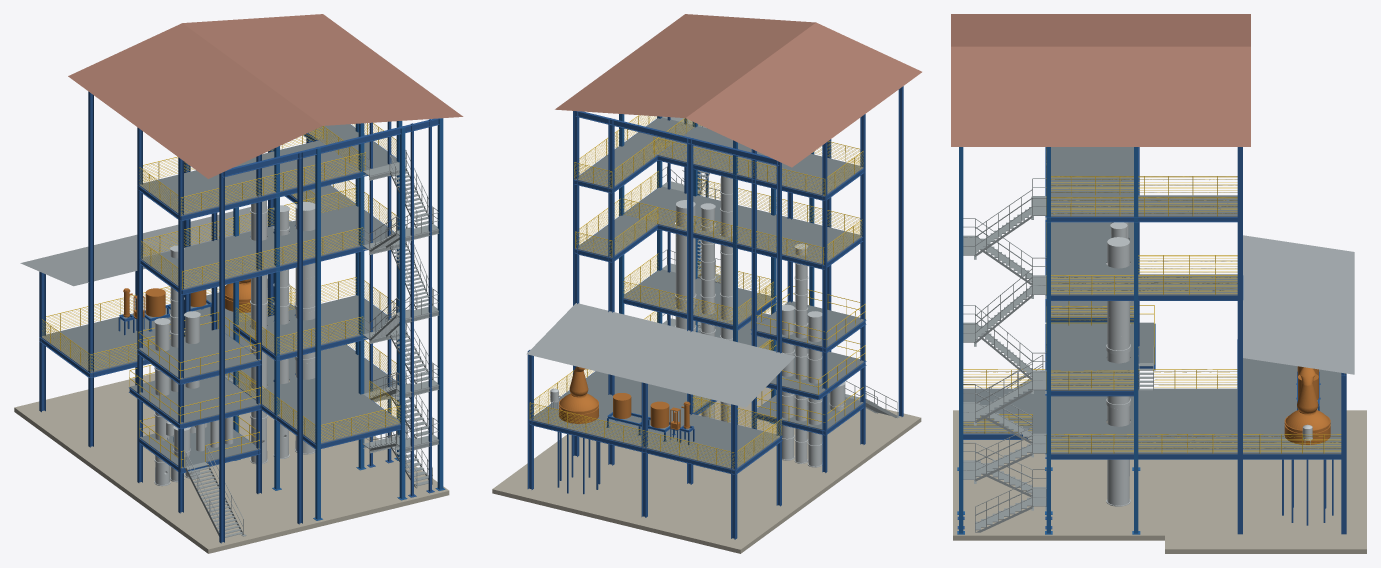
Rendered from torre-dusa.glb.
3 renders of one model, left to right at view 1: azimuth 30°, elevation 25°; view 2: azimuth 150°, elevation 25°; view 3: azimuth 270°, elevation 25°, orthographic. The views are drawn at different scales.
Parts seen in each view (by area): view 1: Estructura · rejilla, Estructura · acero, Estructura · concreto, Cubierta 1, Estructura · baranda, Cubierta 2, Estructura · escalera, Estructura · techo, Pilar sobre sector existente 12712-21915, Pilar sobre sector existente 15392-21915, Pilar sobre sector existente 6767-21915, Columna Rectificadora Bach zona central (+11 smaller); view 2: Estructura · rejilla, Estructura · acero, Estructura · concreto, Estructura · baranda, Cubierta 1, Estructura · techo, Cubierta 2, Columna Rectificadora HO, Columna Rectificadora Bach zona central, Columna Aldehídos, Columna Bach zona central, Columna Vinaza zona central (+6 smaller); view 3: Estructura · rejilla, Estructura · concreto, Cubierta 2, Estructura · baranda, Estructura · techo, Estructura · escalera, Estructura · acero, Cubierta 1, Columna Vinaza zona central, Alambique de cobre, Pilar sobre sector existente 15392-11898, Pilar sobre sector existente 15392-16902 (+1 smaller).
Part boxes in pixels (x1,y1,x2,y2): Estructura · rejilla: (42, 124, 400, 468); Estructura · acero: (39, 91, 440, 543); Estructura · concreto: (14, 373, 449, 553); Cubierta 1: (68, 23, 322, 178); Estructura · baranda: (42, 123, 400, 467); Cubierta 2: (182, 14, 463, 125); Estructura · escalera: (184, 150, 438, 537); Estructura · techo: (20, 207, 295, 286); Pilar sobre sector existente 12712-21915: (397, 126, 407, 500); Pilar sobre sector existente 15392-21915: (435, 118, 445, 490); Pilar sobre sector existente 6767-21915: (313, 146, 322, 520); Columna Rectificadora Bach zona central: (250, 200, 267, 464); Estructura · rejilla: (530, 117, 863, 469); Estructura · acero: (527, 86, 903, 539); Estructura · concreto: (492, 387, 921, 553); Estructura · baranda: (529, 115, 865, 467); Cubierta 1: (686, 22, 921, 167); Estructura · techo: (526, 303, 795, 407); Cubierta 2: (555, 14, 815, 117); Columna Rectificadora HO: (794, 243, 808, 463); Columna Rectificadora Bach zona central: (720, 176, 732, 422); Columna Aldehídos: (807, 311, 822, 467); Columna Bach zona central: (700, 203, 715, 419); Columna Vinaza zona central: (675, 200, 696, 331); Estructura · rejilla: (963, 147, 1341, 454); Estructura · concreto: (953, 410, 1366, 553); Cubierta 2: (951, 46, 1250, 146); Estructura · baranda: (963, 147, 1345, 453); Estructura · techo: (1243, 235, 1354, 374); Estructura · escalera: (963, 178, 1153, 532); Estructura · acero: (957, 147, 1346, 534); Cubierta 1: (951, 14, 1250, 46); Columna Vinaza zona central: (1106, 237, 1130, 506); Alambique de cobre: (1284, 367, 1330, 444); Pilar sobre sector existente 15392-11898: (1132, 147, 1140, 534); Pilar sobre sector existente 15392-16902: (1045, 147, 1052, 534).
Bounding box in the file's own units: 18.87 × 27 × 23.79.
